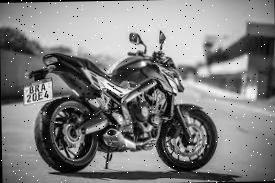placa_mercosul: (22, 77, 52, 105)
